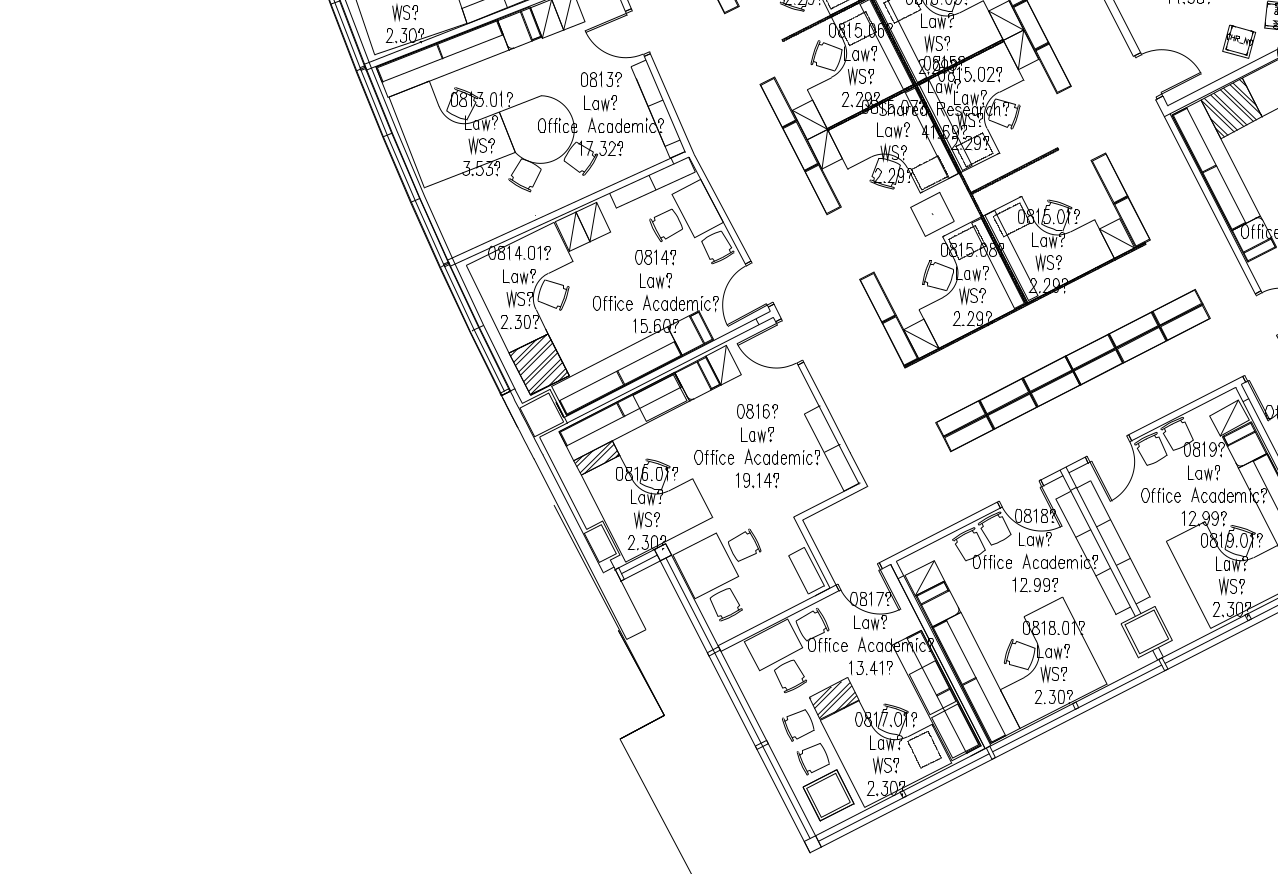door: (734, 317, 810, 373), (717, 258, 776, 330), (1084, 432, 1139, 509), (1003, 478, 1063, 547), (840, 561, 901, 626), (583, 6, 647, 65), (1139, 40, 1203, 99)
